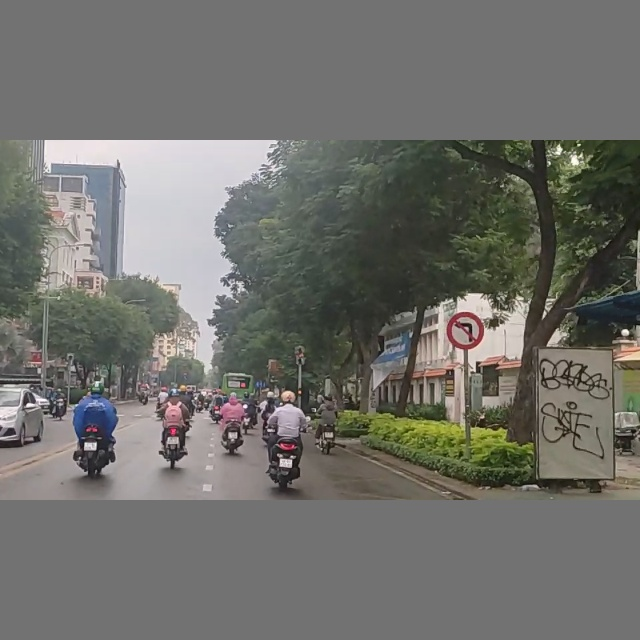P.123a: (446, 310, 487, 351)
